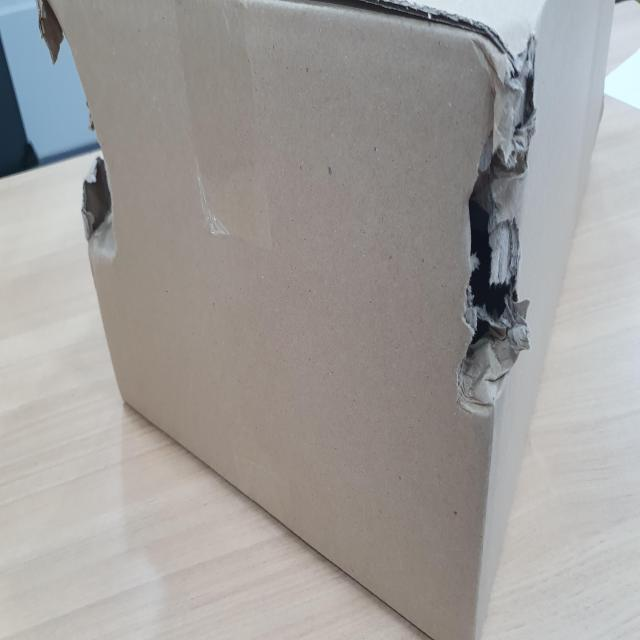damaged: (448, 59, 539, 387), (50, 3, 117, 240)
